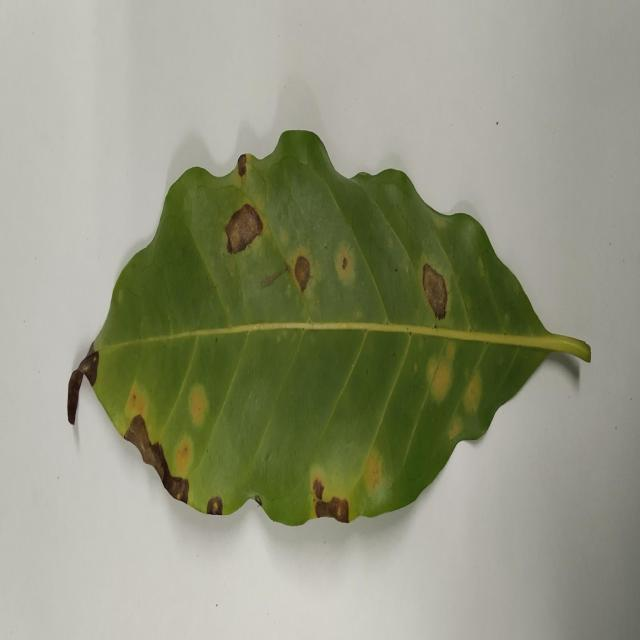Enfermedad-Mancha-de-hierro: (66, 130, 593, 529)
